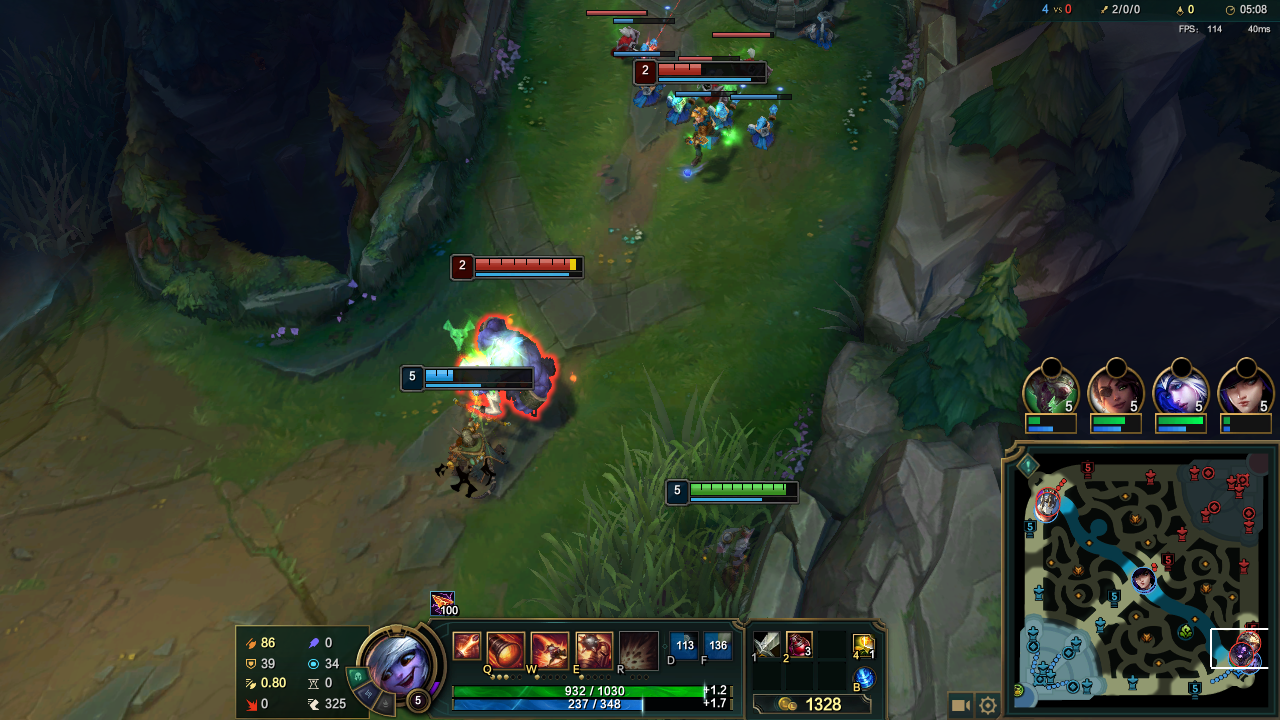DFXB: (603, 28, 646, 62)
DFYX: (469, 257, 559, 277), (651, 63, 733, 84)
WFXB: (744, 99, 789, 150)
Yita: (1185, 674, 1204, 698)
